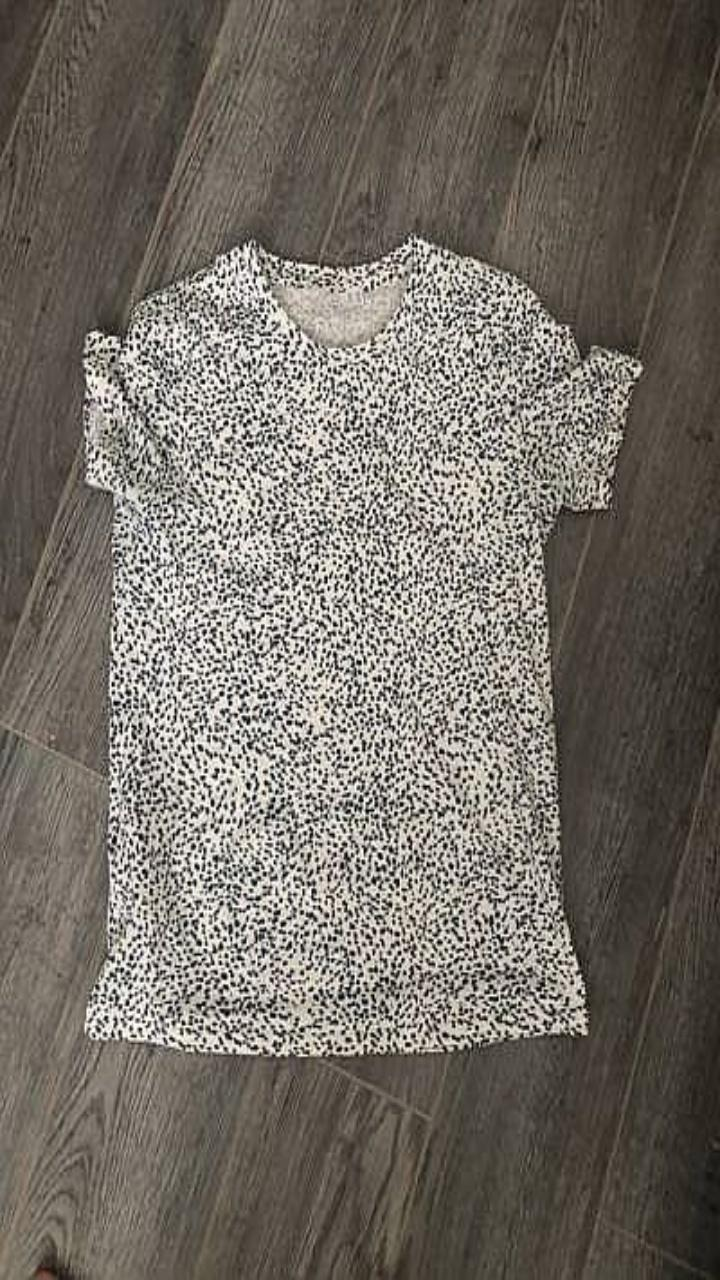T-Shirt: (83, 235, 642, 1054)
